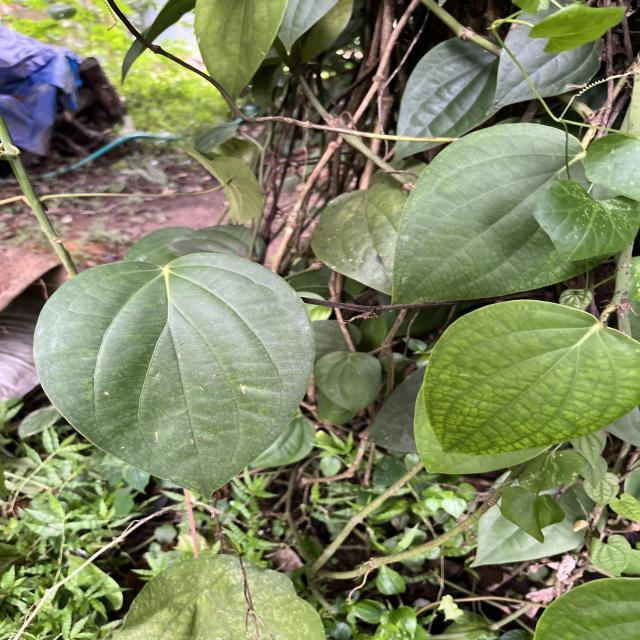Piper nigrum: (31, 251, 318, 505), (420, 298, 640, 457)
